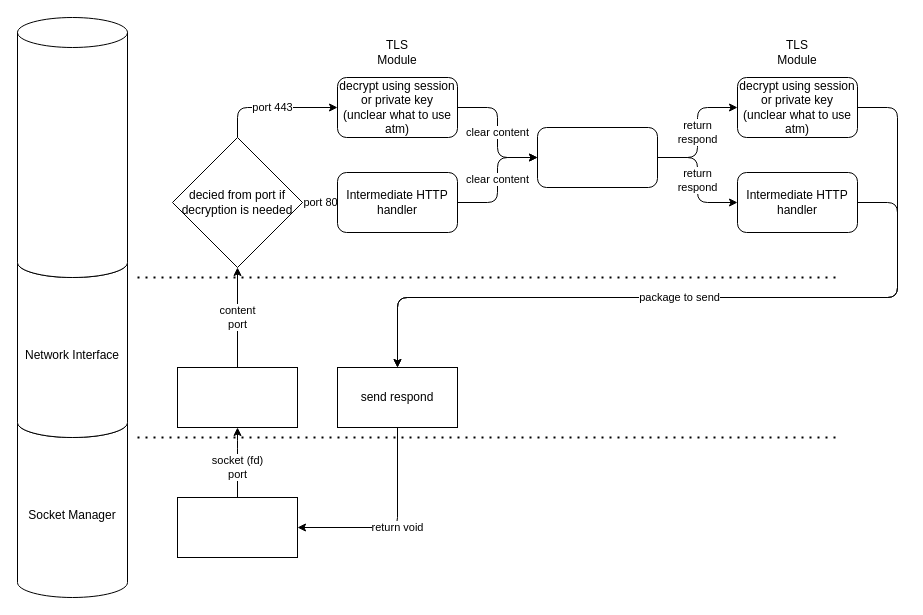
This 923x615 diagram has some shape labels left out. Each missing label, with the box of its shape:
Checks for sockets ready for read: (176, 496, 298, 558)
HTTP/HTTPS: (16, 16, 128, 278)
process HTTP: (536, 126, 658, 188)
reads from socket choose destination from port identifier: (176, 366, 298, 428)
